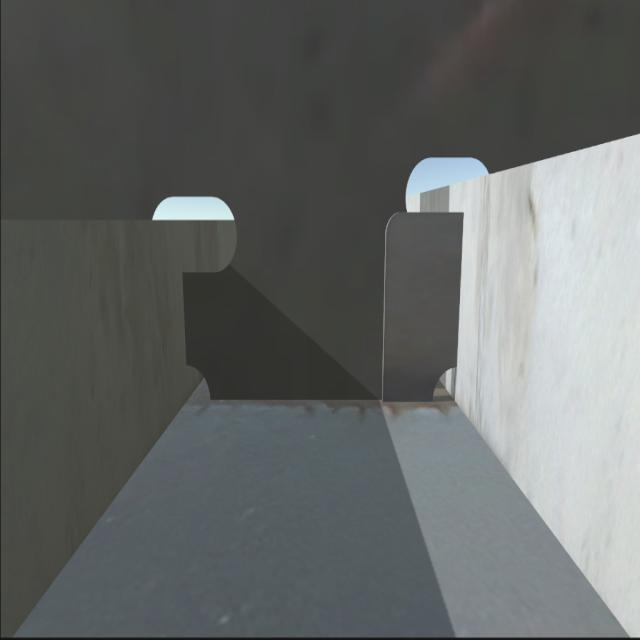fillet_hole: (424, 366, 461, 404), (191, 362, 213, 403)
fillet_yong_jeop_jang: (205, 391, 432, 406)
longi_yong_jeop_jang: (451, 215, 473, 367), (179, 277, 195, 361)
plate_CP05: (380, 212, 458, 401)
